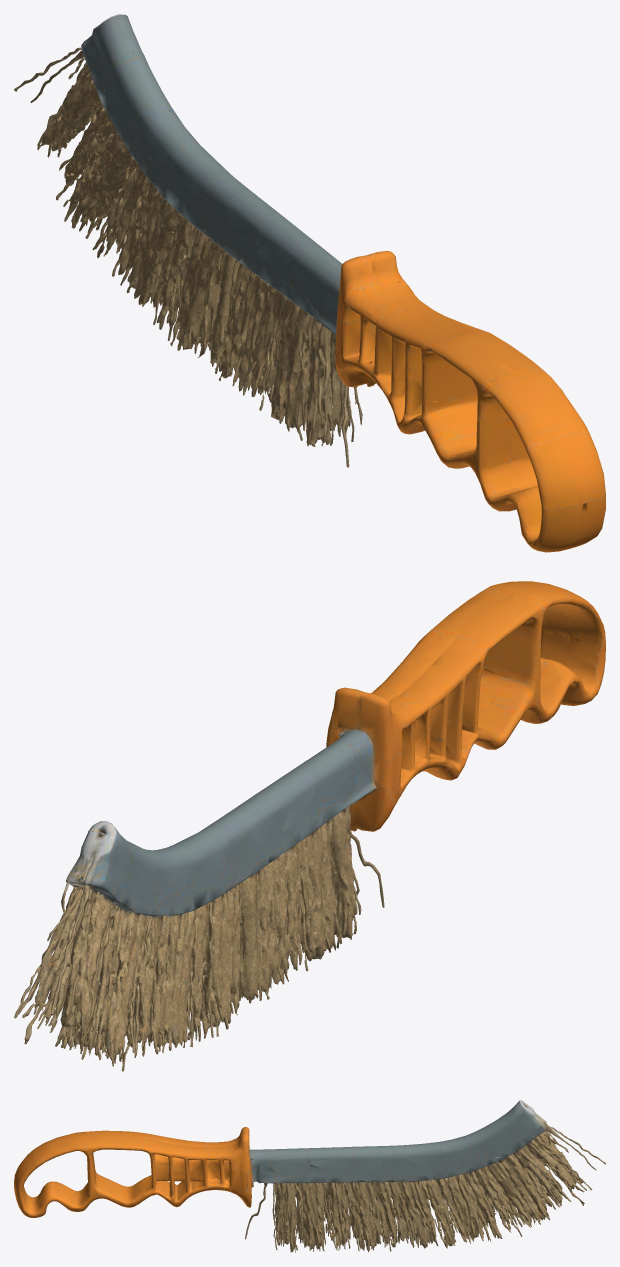
File: wire-brush.glb
3 views of the same model, one above another, from view 1: azimuth 30°, elevation 25°; view 2: azimuth 150°, elevation 25°; view 3: azimuth 270°, elevation 25° (orthographic). The views are drawn at different scales.
Visible parts, largest first — view 1: mesh_node; view 2: mesh_node; view 3: mesh_node.
Boxes of the visible parts, <box> form: mesh_node: <box>14,14,605,552</box>; mesh_node: <box>14,581,605,1071</box>; mesh_node: <box>14,1100,605,1252</box>.
Bounding box in the file's own units: 0.1353 × 0.5212 × 1.89.
1 material, 1 textured.
